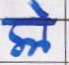e_matra: (29, 1, 50, 16)
